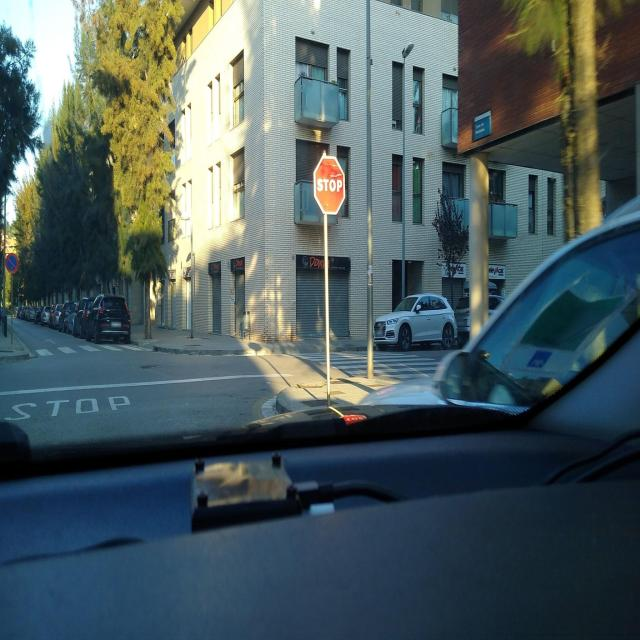forb_stopping: (6, 253, 19, 274)
